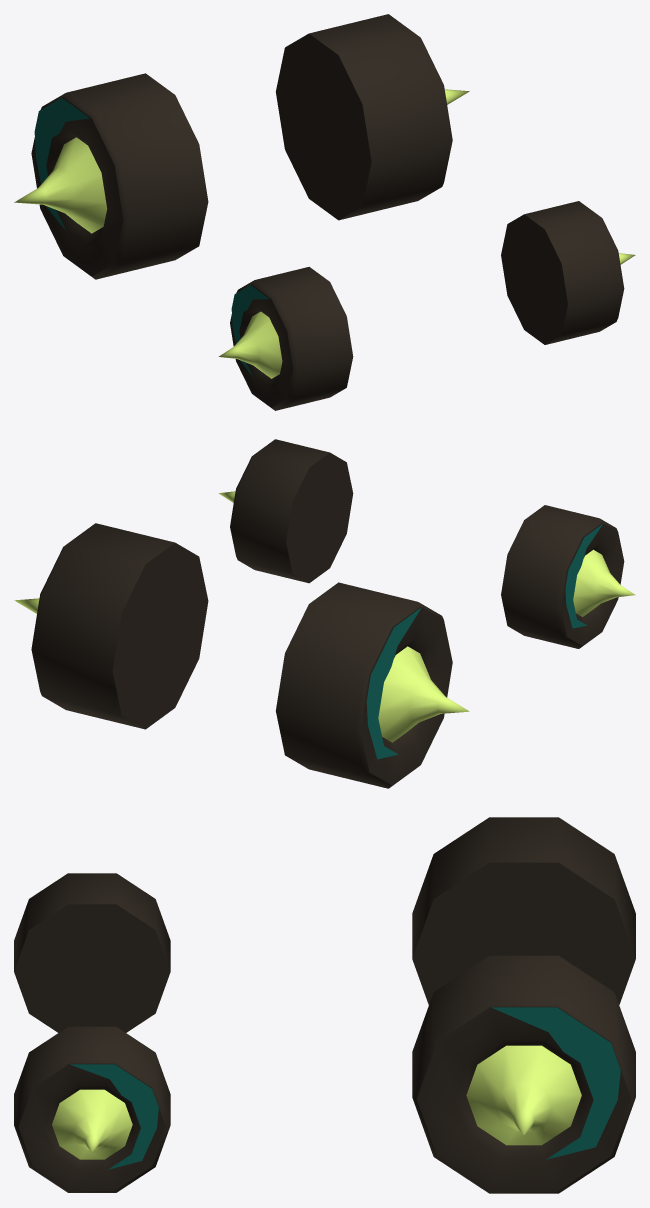
The model's file is LuxWheel02C02.gltf.
3 renders of one model, top to bottom at view 1: azimuth 30°, elevation 25°; view 2: azimuth 150°, elevation 25°; view 3: azimuth 270°, elevation 25°, orthographic. The views are drawn at different scales.
Visible parts, largest first — view 1: LuxWheel02C02; view 2: LuxWheel02C02; view 3: LuxWheel02C02.
Boxes of the visible parts, box(x1,y1,x2,y2) form: LuxWheel02C02: box(14, 14, 635, 410); LuxWheel02C02: box(14, 439, 635, 788); LuxWheel02C02: box(14, 817, 635, 1193).
Size of the model in its own units: 0.2691 by 0.0932 by 0.2723.
